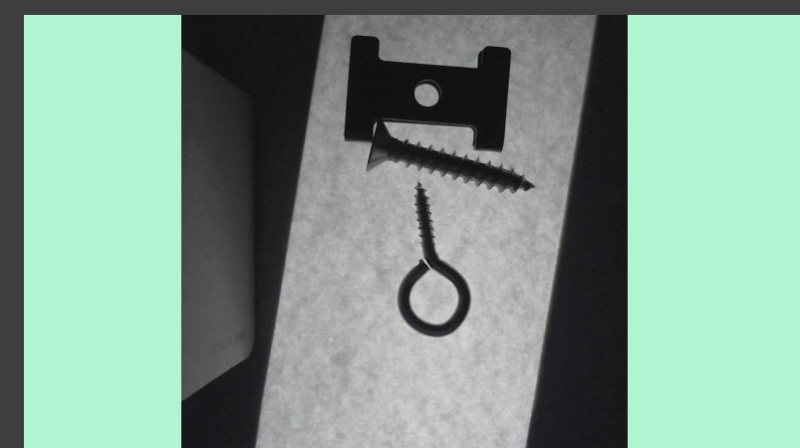O001: (397, 179, 473, 339)
O002: (343, 34, 511, 150)
S001: (366, 118, 537, 191)
